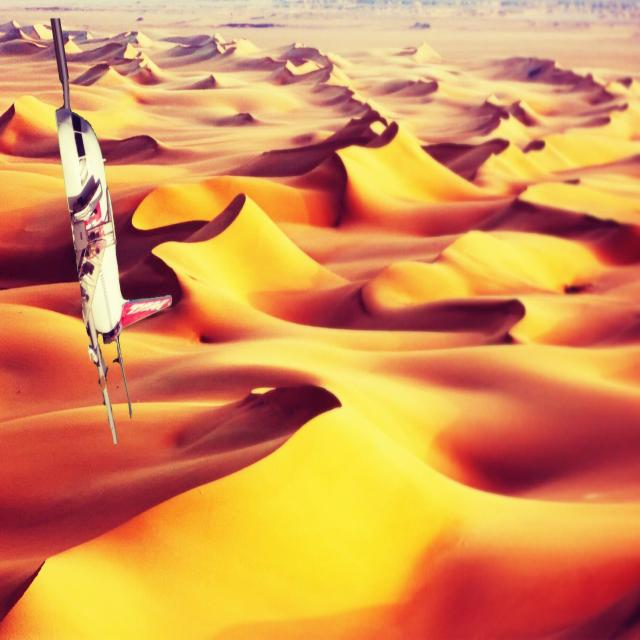airplane: (48, 17, 173, 444)
